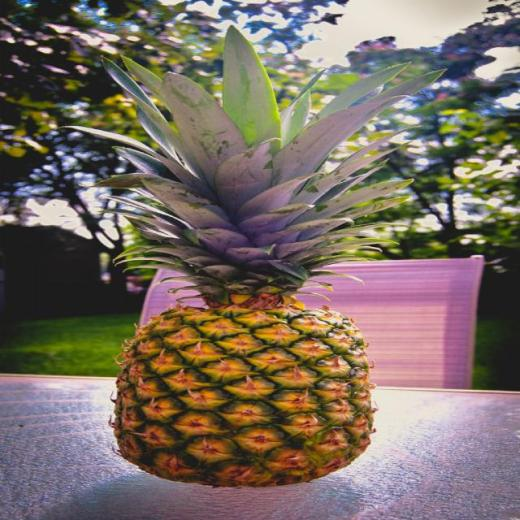Mango: (56, 24, 449, 488)
